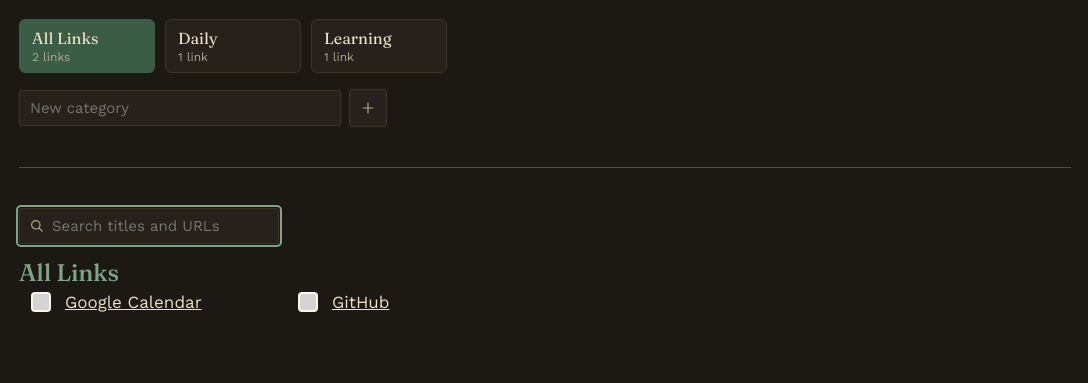
it: UserFavorites: categories › renames the selected category
Click the button "Daily 1 link".
click(233, 46)  # box [165,19,301,73]
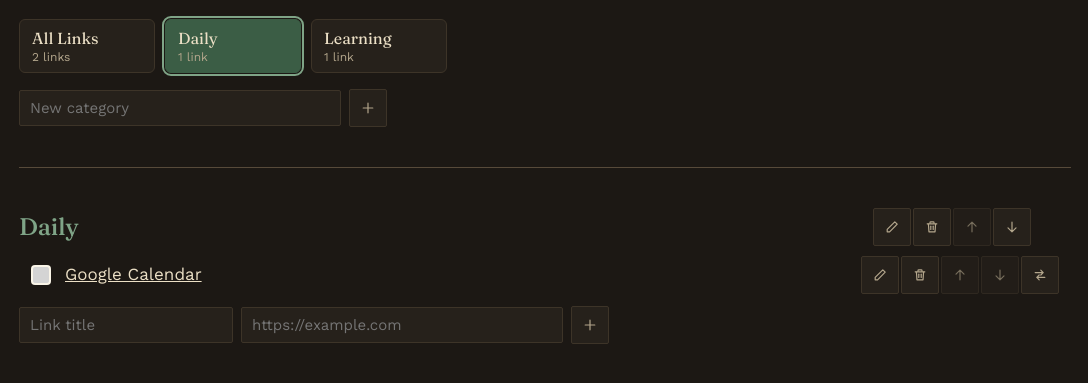
Click the button named "Rename category".
click(892, 227)  # box [873,208,911,246]
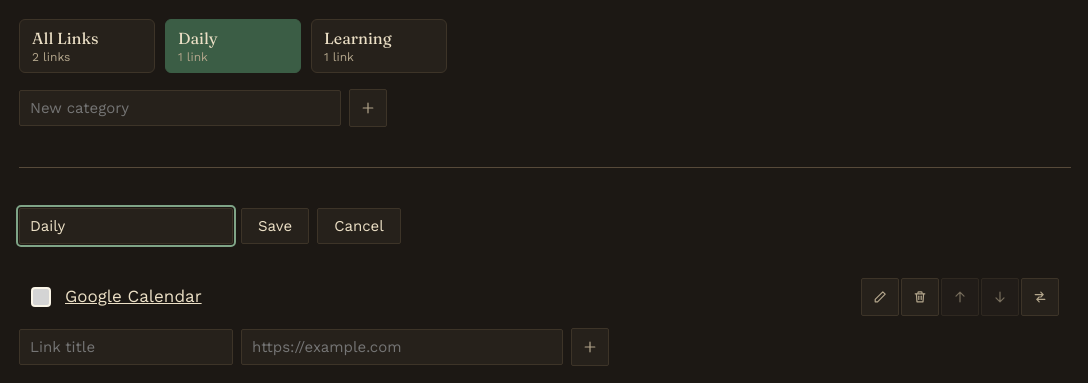
Replace the text in the field showing "Daily" with "Everyday" at [126, 226], box [19,208,233,244]
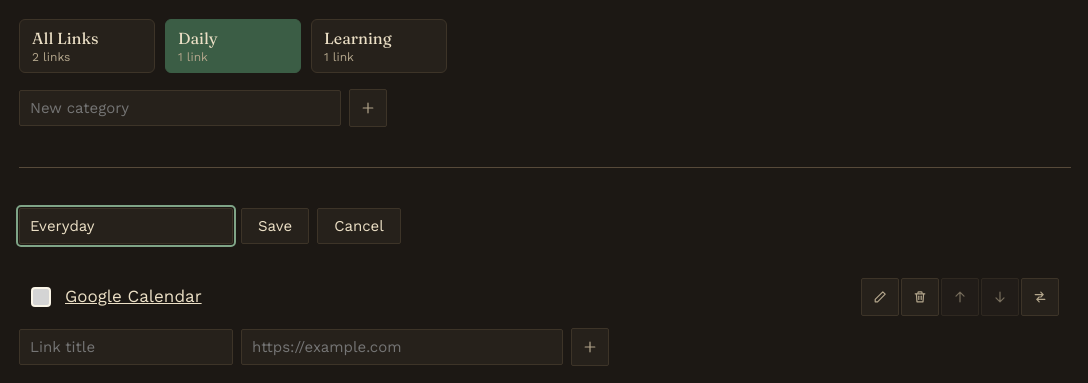
Click the button "Save".
click(275, 226)  # box [241,208,309,244]
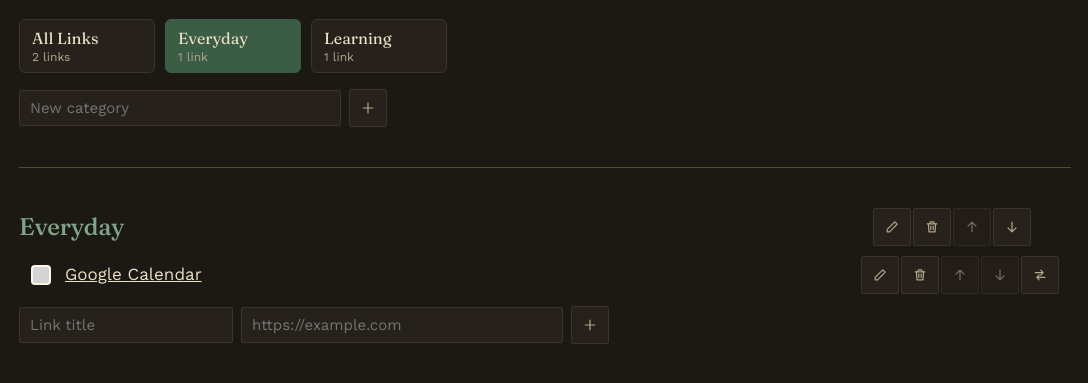
Check: the heading "Everyday" is shown, box [19,214,124,240]
